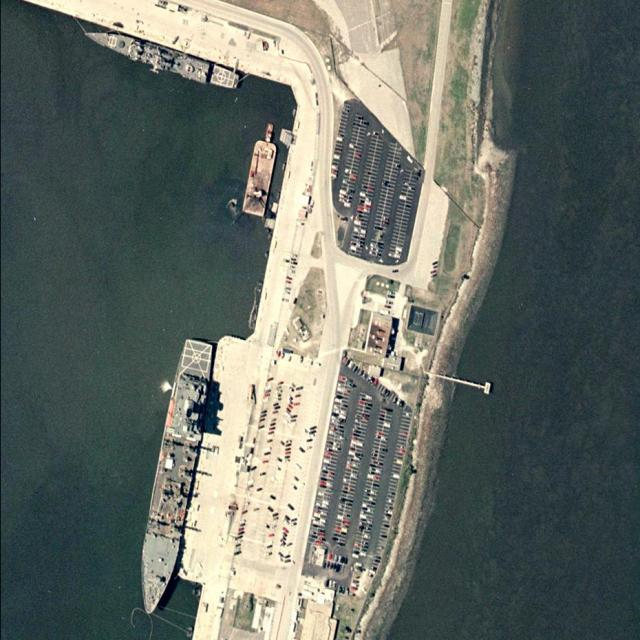Commander: (127, 330, 218, 619)
Frigate: (81, 23, 239, 91)
